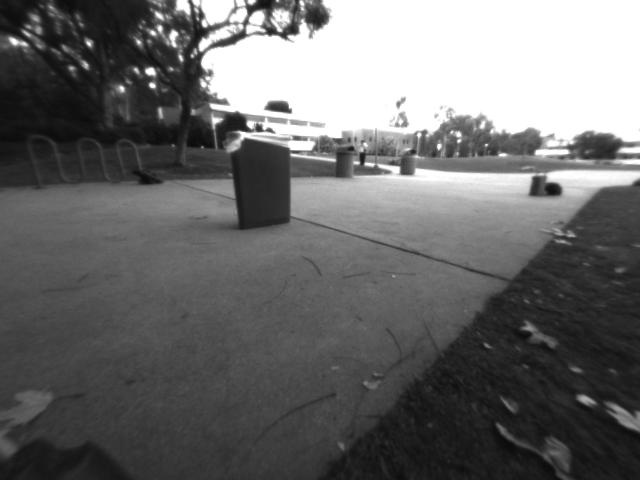trashcan_open: (224, 125, 297, 231)
